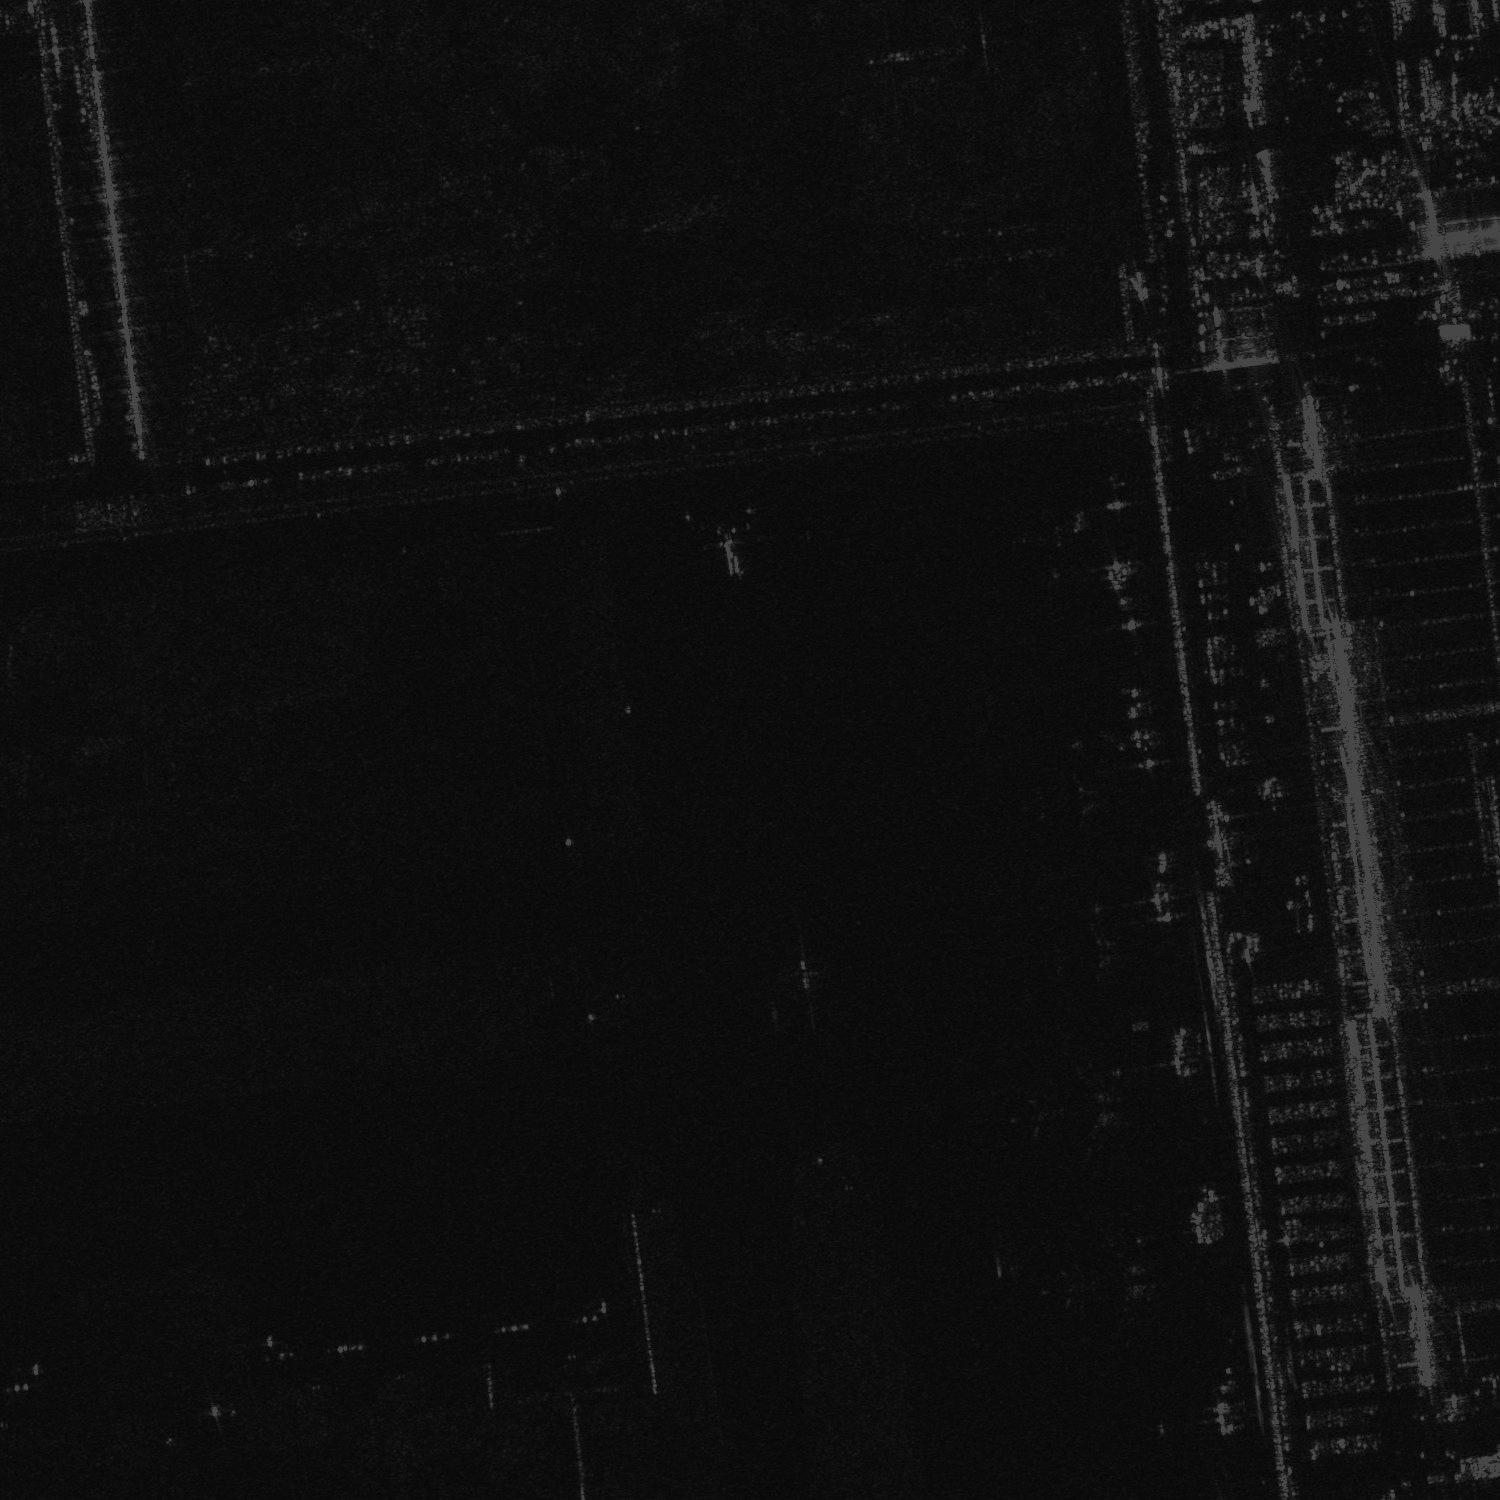Boeing787: (1010, 1055, 1135, 1174), (1056, 1229, 1159, 1341), (1033, 760, 1114, 830), (1054, 919, 1129, 979)
other: (701, 521, 755, 577)
